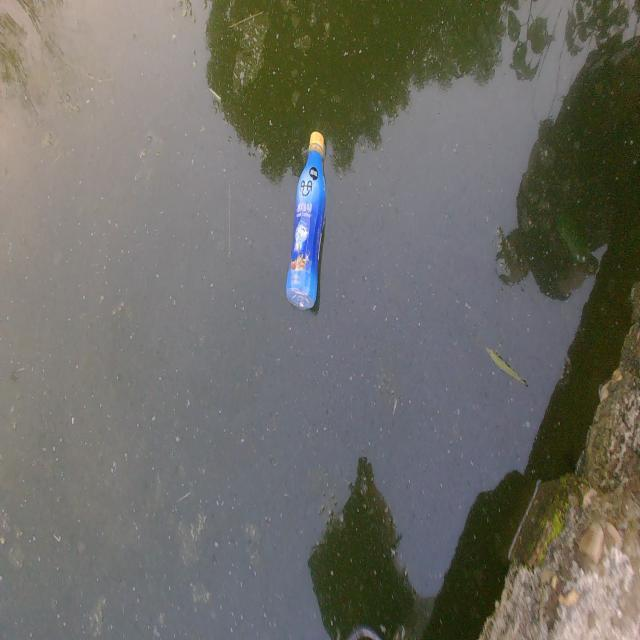bottle: (264, 98, 336, 348)
